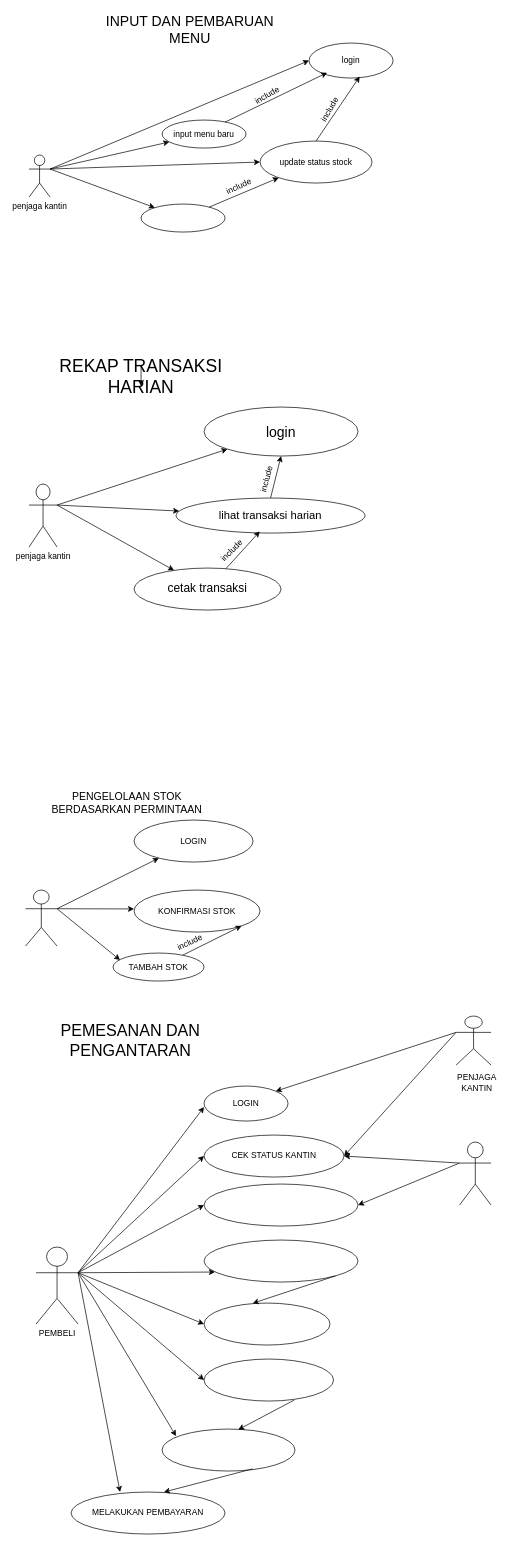
This 510x1546 diagram has some shape labels left out. The box of each missing label's shape, as (x1, y1, x2, y2) in pixels:
BUAT PESANAN: (203, 1358, 334, 1401)
CARI & PILIH MENU: (203, 1239, 358, 1282)
INPUT OPSI PENGAMBILAN: (161, 1428, 295, 1471)
KONFIRMASI PENGIRIMAN: (203, 1183, 358, 1226)
KURIR: (459, 1141, 491, 1205)
LIHAT DETAIL MENU: (203, 1302, 330, 1345)
permintaan stock: (140, 203, 225, 232)
supplier: (25, 889, 57, 946)
